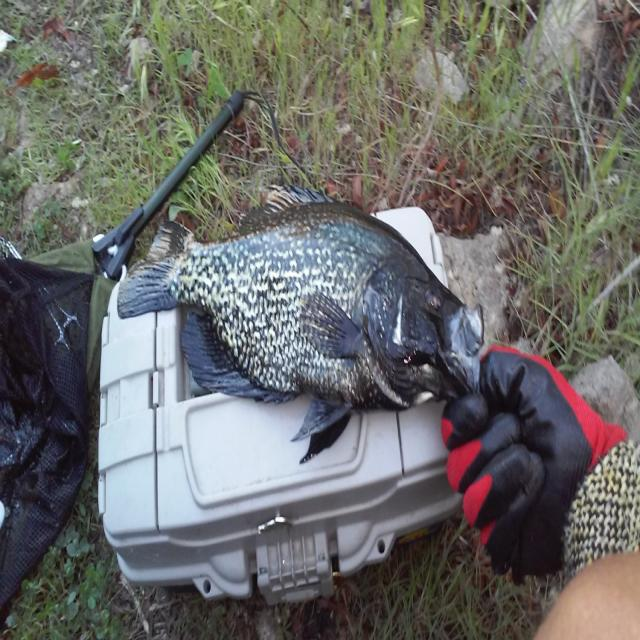Crappie - Black: (120, 190, 482, 459)
